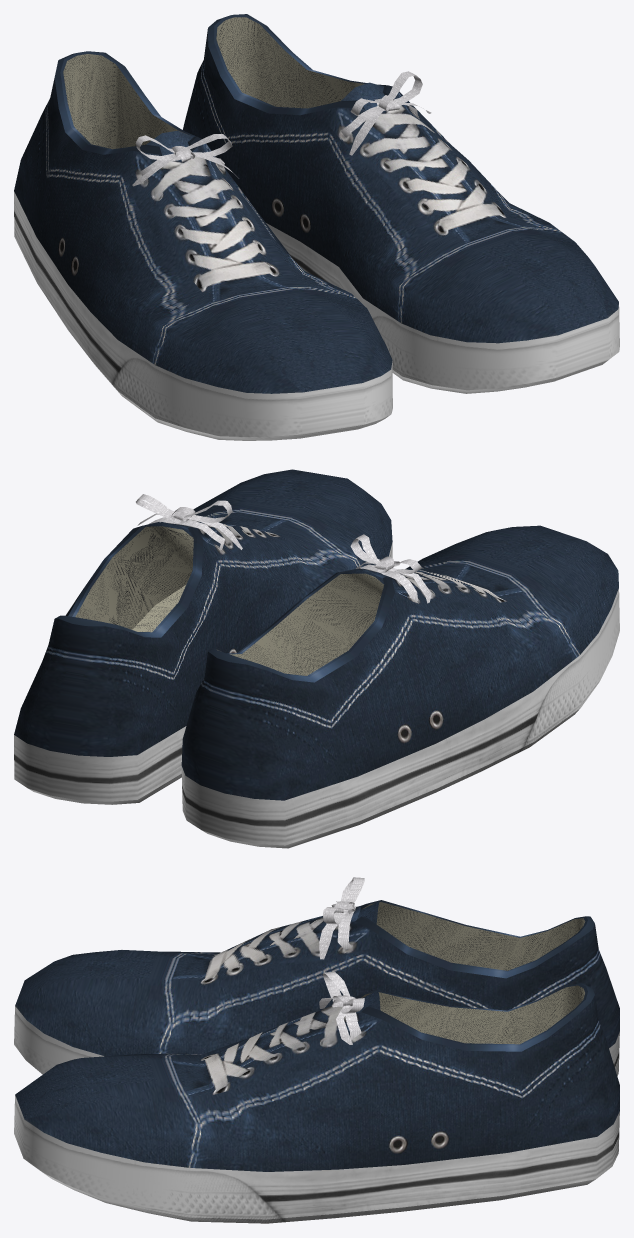
The model's file is BlueSneakers.dae.
3 renders of one model, top to bottom at view 1: azimuth 30°, elevation 25°; view 2: azimuth 150°, elevation 25°; view 3: azimuth 270°, elevation 25°, orthographic. The views are drawn at different scales.
Visible parts, largest first — view 1: group_0 (×8); view 2: group_0 (×6); view 3: group_0 (×6).
Part boxes in pixels (x1=…): group_0 (×8): x1=14, y1=14, x2=619, y2=440; group_0 (×6): x1=14, y1=469, x2=619, y2=848; group_0 (×6): x1=14, y1=877, x2=619, y2=1223.
Size of the model in its own units: 8.96 by 11.8 by 4.12.
